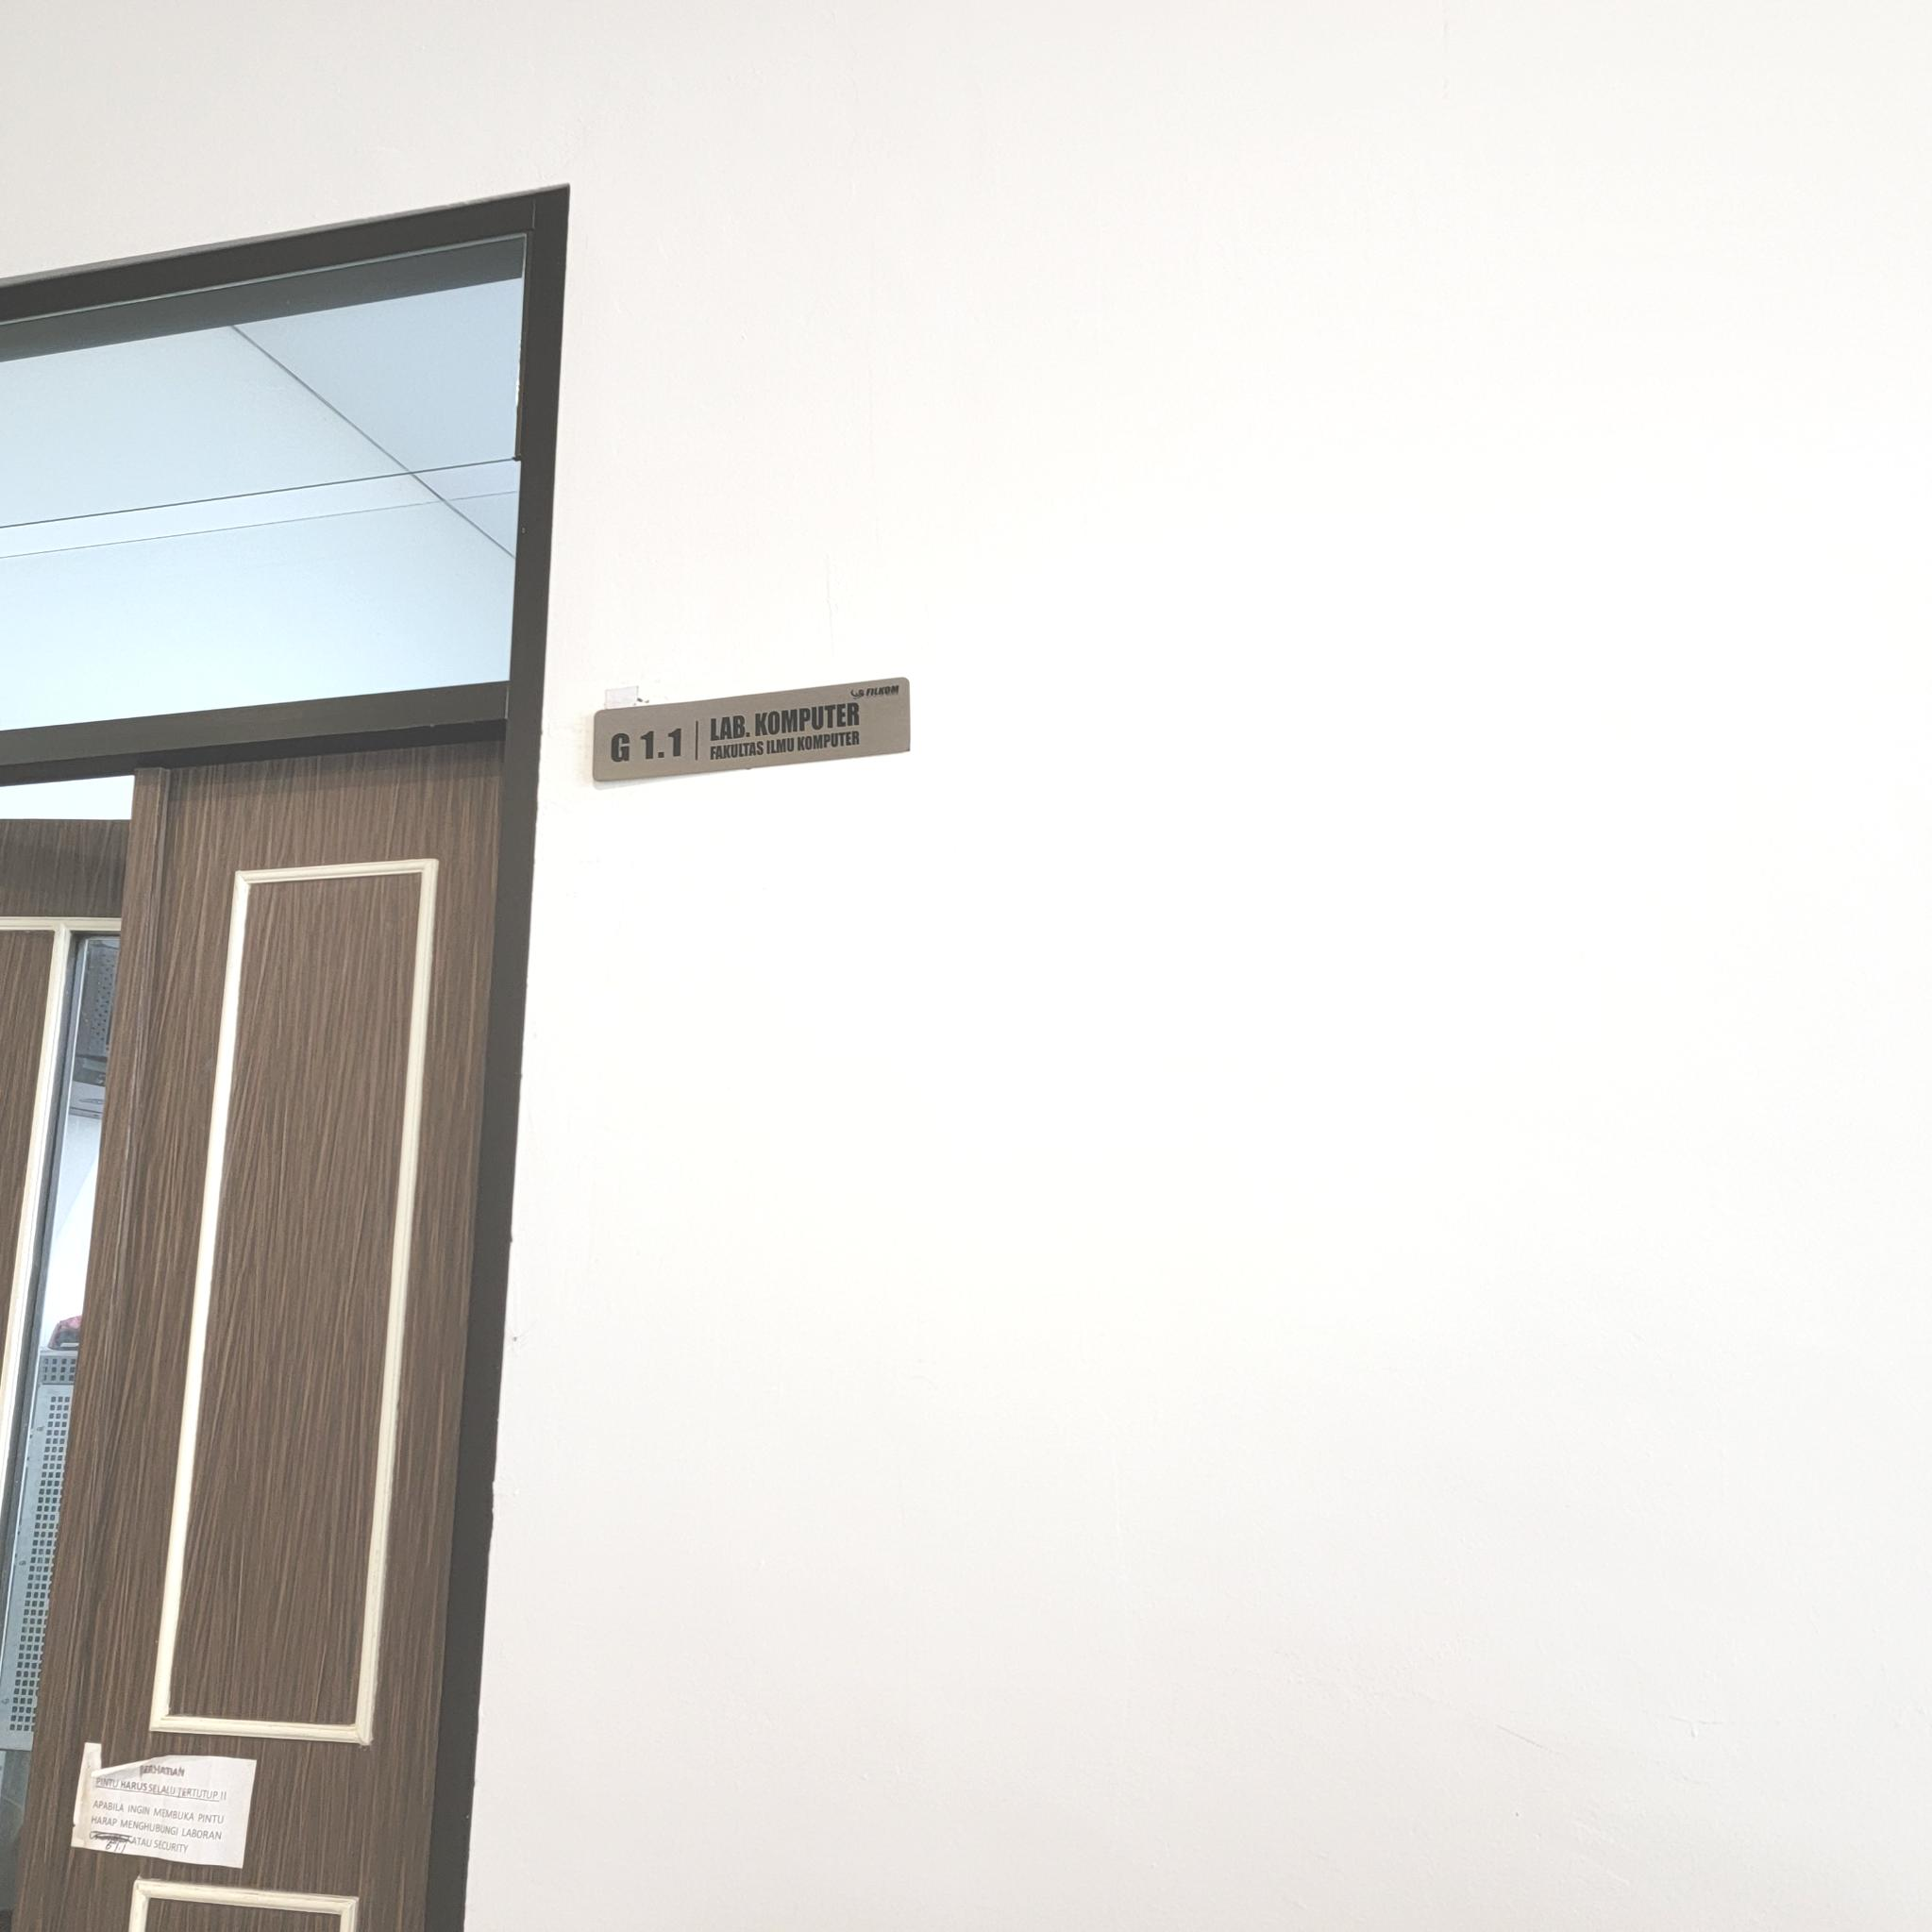plate: (593, 678, 911, 784)
